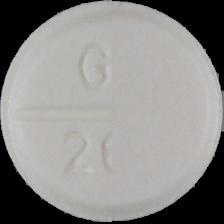67544-087: (0, 0, 224, 224)
